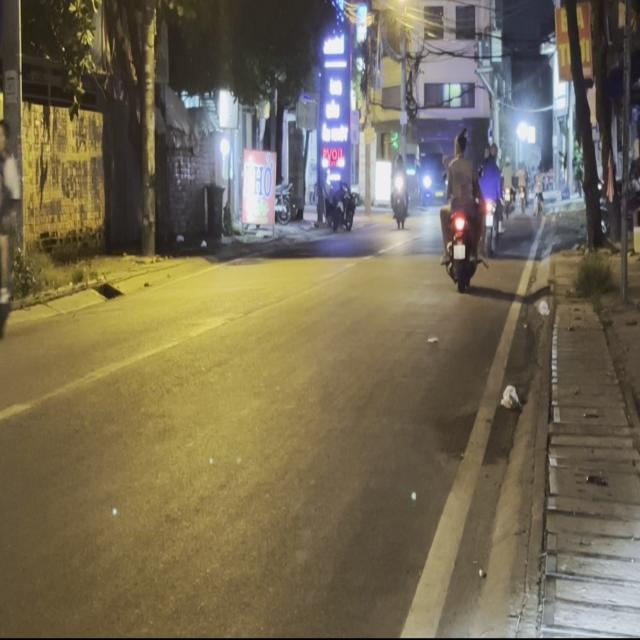licenseplate: (0, 96, 15, 352)
